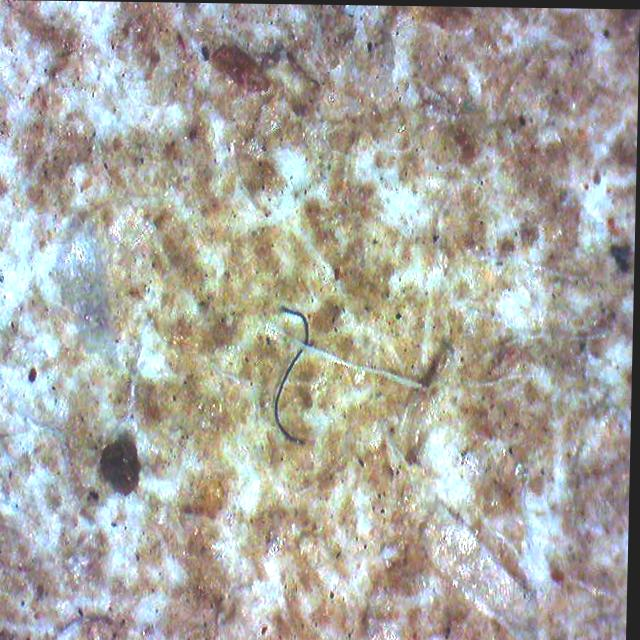microplastic: (277, 306, 311, 442)
